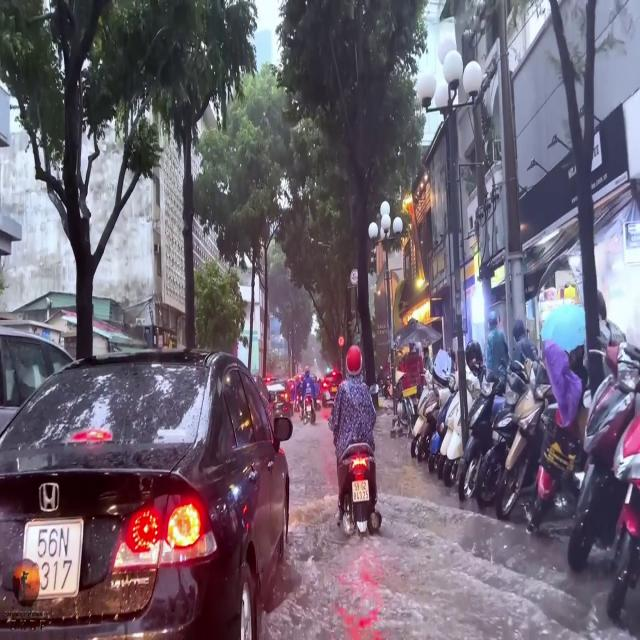bien_trang: (21, 518, 84, 594), (349, 478, 372, 511)
